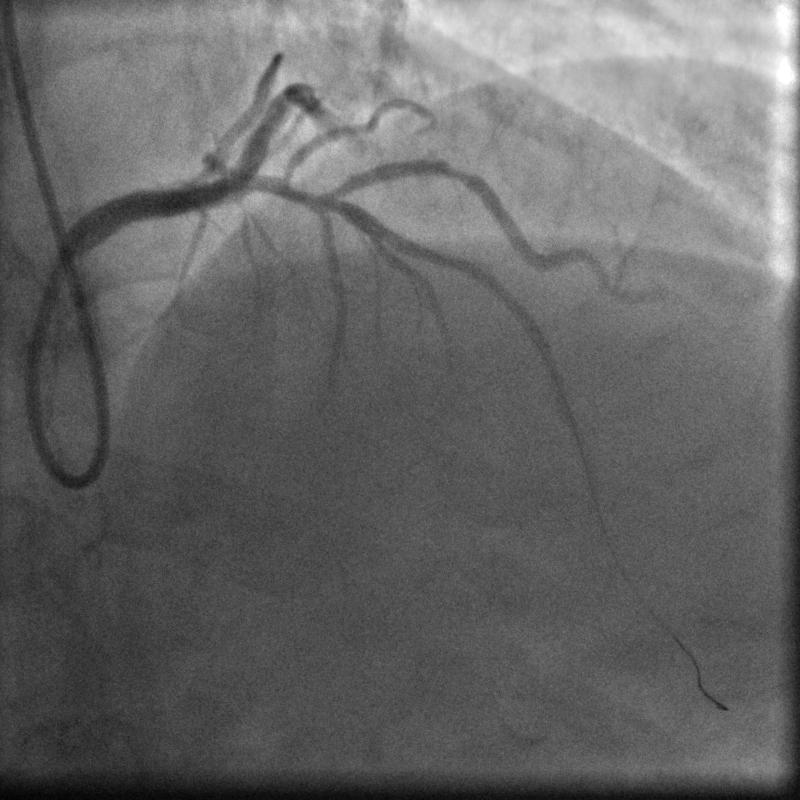Stenosis: (430, 154, 478, 189)
